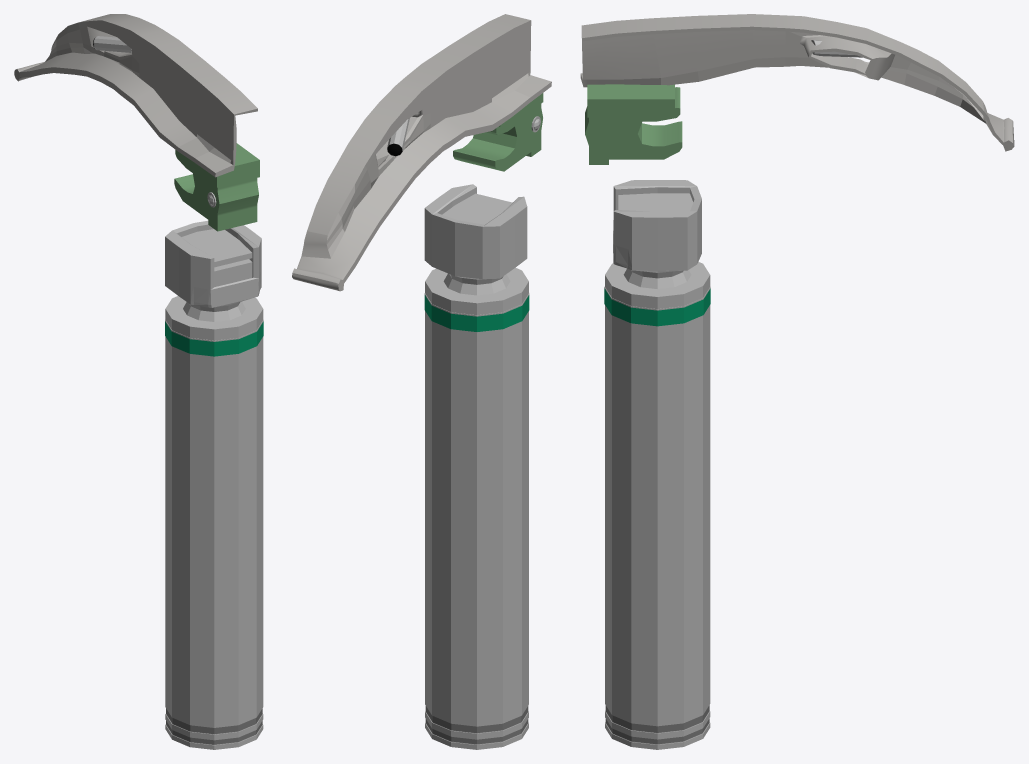
Rendered from Laryngoscope.fbx.
3 views of the same model, side by side, from view 1: azimuth 30°, elevation 25°; view 2: azimuth 150°, elevation 25°; view 3: azimuth 270°, elevation 25° (orthographic). The views are drawn at different scales.
Parts seen in each view (by area): view 1: pCylinder1, pPlane2, pPlane4, pCube2, pPlane3, pCube1, pCylinder2; view 2: pCylinder1, pPlane2, pPlane4, pCube2, pCylinder2; view 3: pCylinder1, pPlane2, pPlane4, pPlane3, pCube2.
Part boxes in pixels (x1,y1,x2,y2): pCylinder1: (165,220,263,749); pPlane2: (14,14,257,177); pPlane4: (174,150,258,231); pCube2: (182,229,252,267); pPlane3: (176,143,259,187); pCube1: (214,259,252,286); pCylinder2: (93,36,131,52); pCylinder1: (424,184,529,749); pPlane2: (292,14,551,291); pPlane4: (453,104,542,171); pCube2: (442,193,512,224); pCylinder2: (387,118,409,156); pCylinder1: (604,180,710,749); pPlane2: (580,14,1014,151); pPlane4: (585,87,682,164); pPlane3: (587,84,674,117); pCube2: (618,193,693,211).
Bounding box in the file's own units: 1.76 × 12.9 × 7.19.
